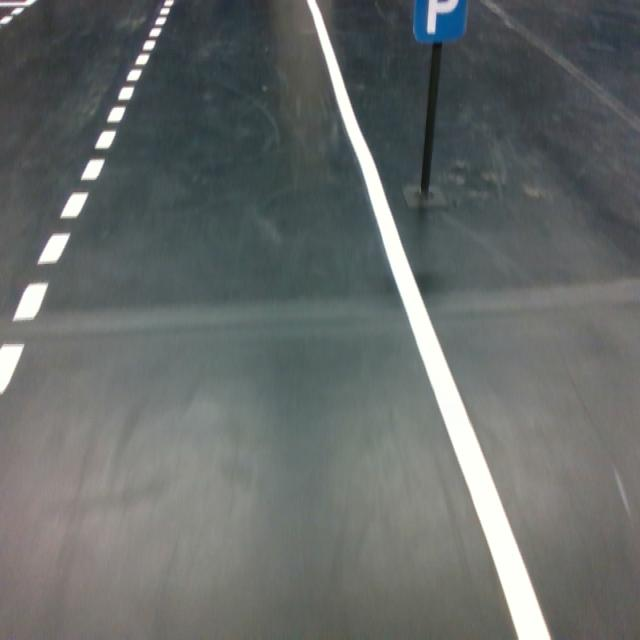parking-sign: (411, 0, 468, 44)
